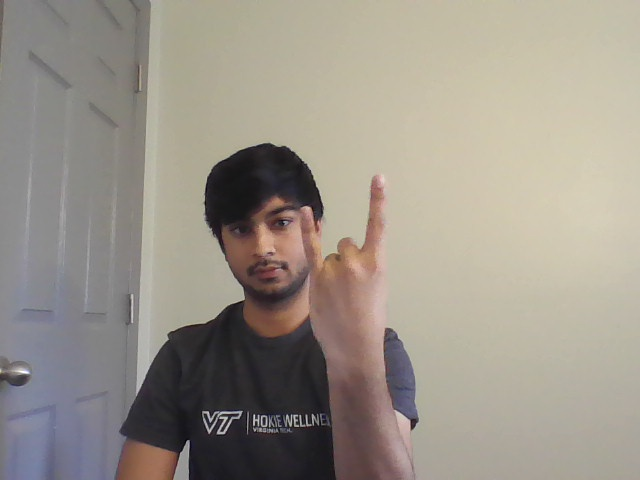help: (295, 172, 404, 353)
